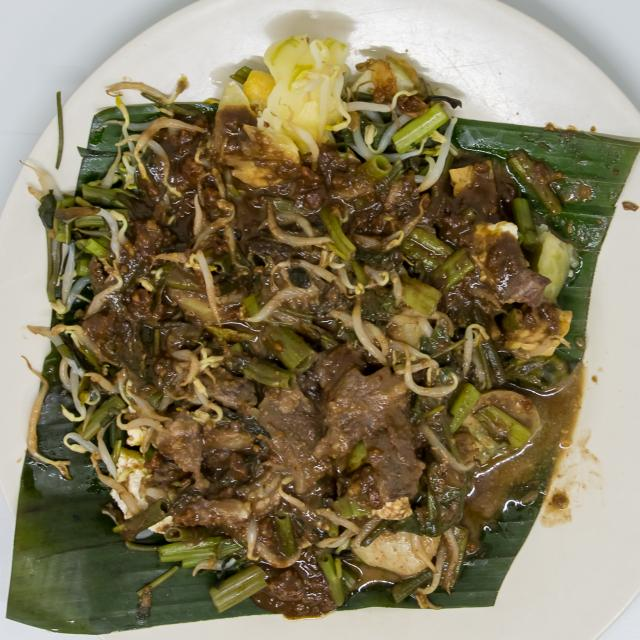Rujak-Cingur: (52, 27, 579, 613)
